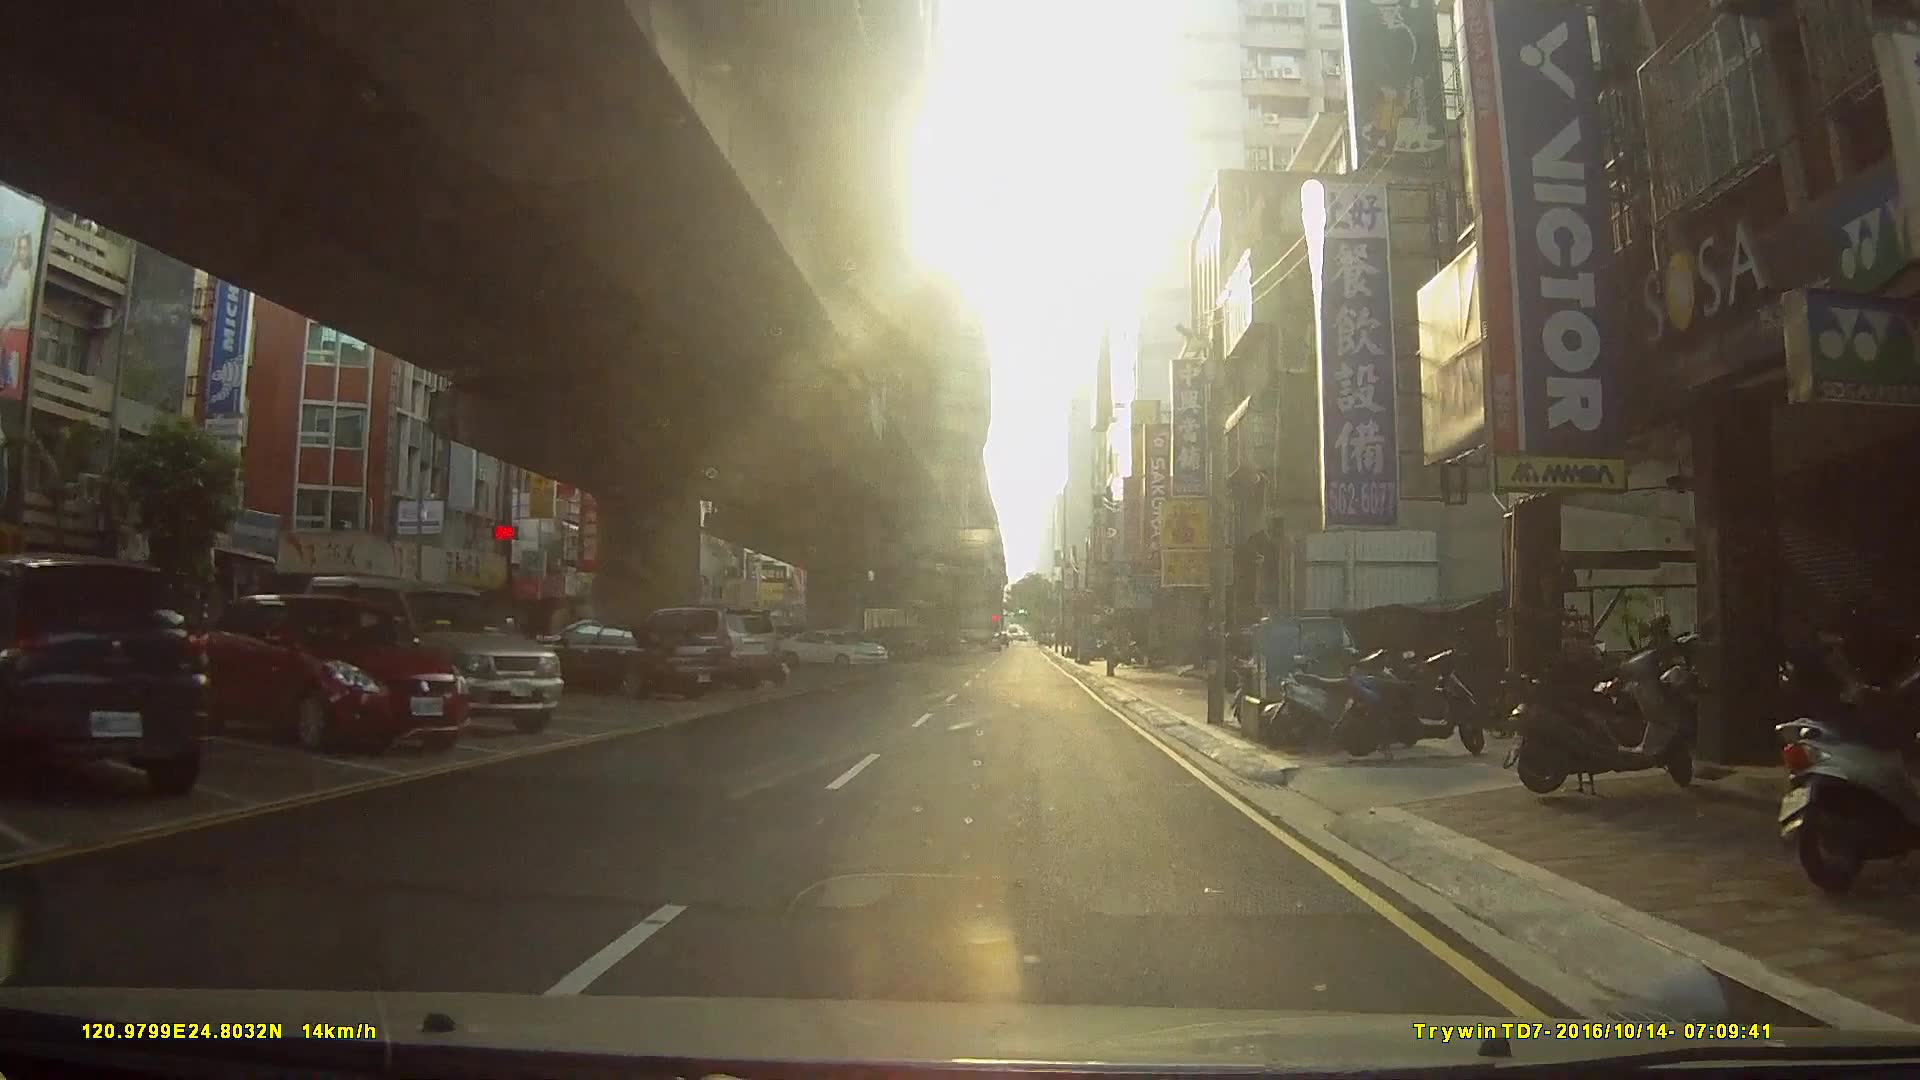vehicle: (0, 551, 215, 795), (195, 589, 469, 749), (299, 571, 564, 736), (535, 615, 731, 699), (618, 604, 779, 692), (775, 625, 889, 669)
